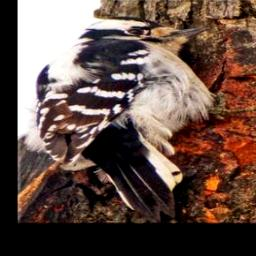Woodpecker: (22, 12, 256, 222)
